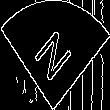N_SW: (32, 23, 78, 87)
